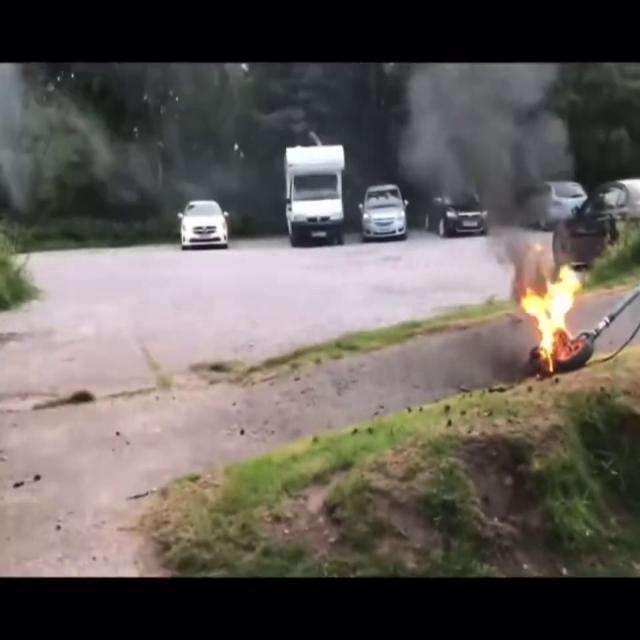Fire: (518, 264, 588, 368)
Smoke: (0, 62, 278, 222), (398, 66, 572, 240)
